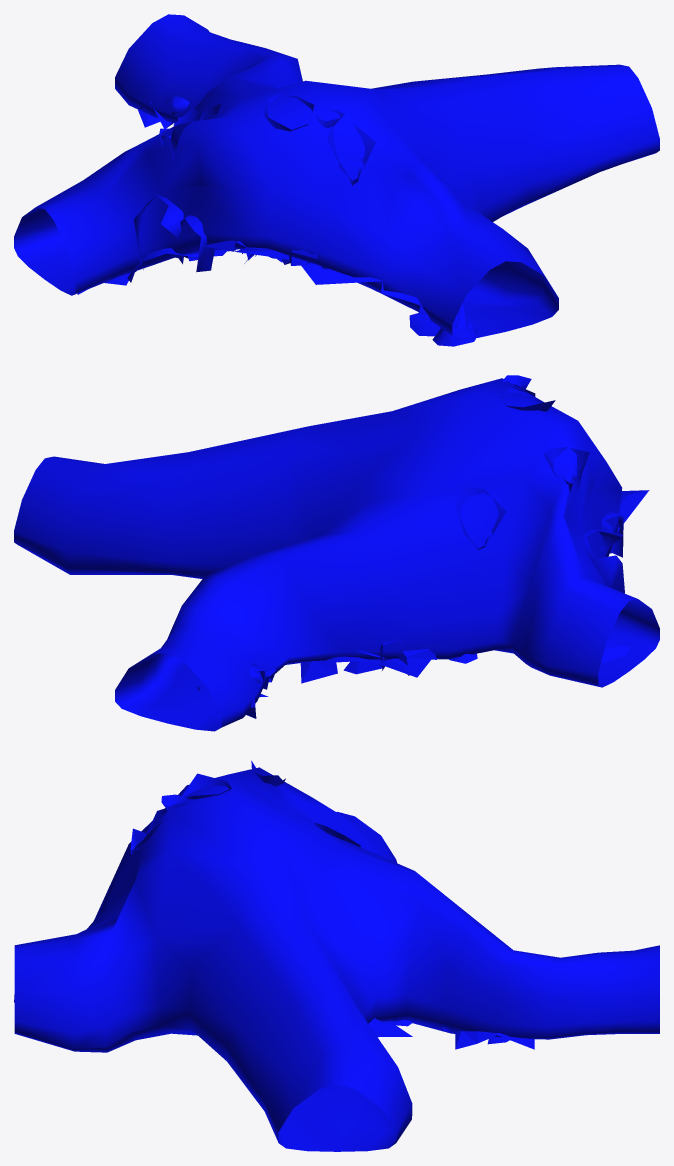
Rendered from cave_4way_collider.dae.
The picture shows the model from 3 angles, top to bottom: view 1: azimuth 30°, elevation 25°; view 2: azimuth 150°, elevation 25°; view 3: azimuth 270°, elevation 25°; orthographic projection. The views are drawn at different scales.
Parts seen in each view (by area): view 1: Cave_4Way_Collider; view 2: Cave_4Way_Collider; view 3: Cave_4Way_Collider.
Part boxes in pixels (bbox=[...]): Cave_4Way_Collider: bbox=[14, 14, 659, 346]; Cave_4Way_Collider: bbox=[14, 375, 659, 731]; Cave_4Way_Collider: bbox=[14, 760, 659, 1151].
Size of the model in its own units: 1000 by 1001 by 331.
